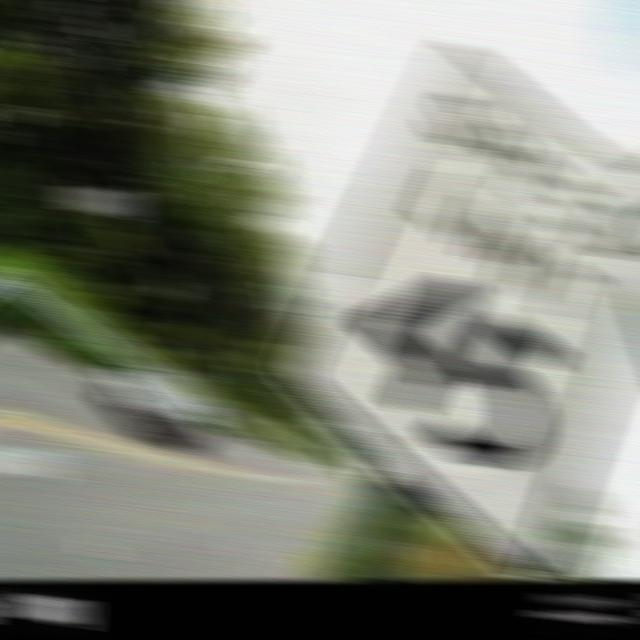speedLimit45: (287, 45, 640, 571)
